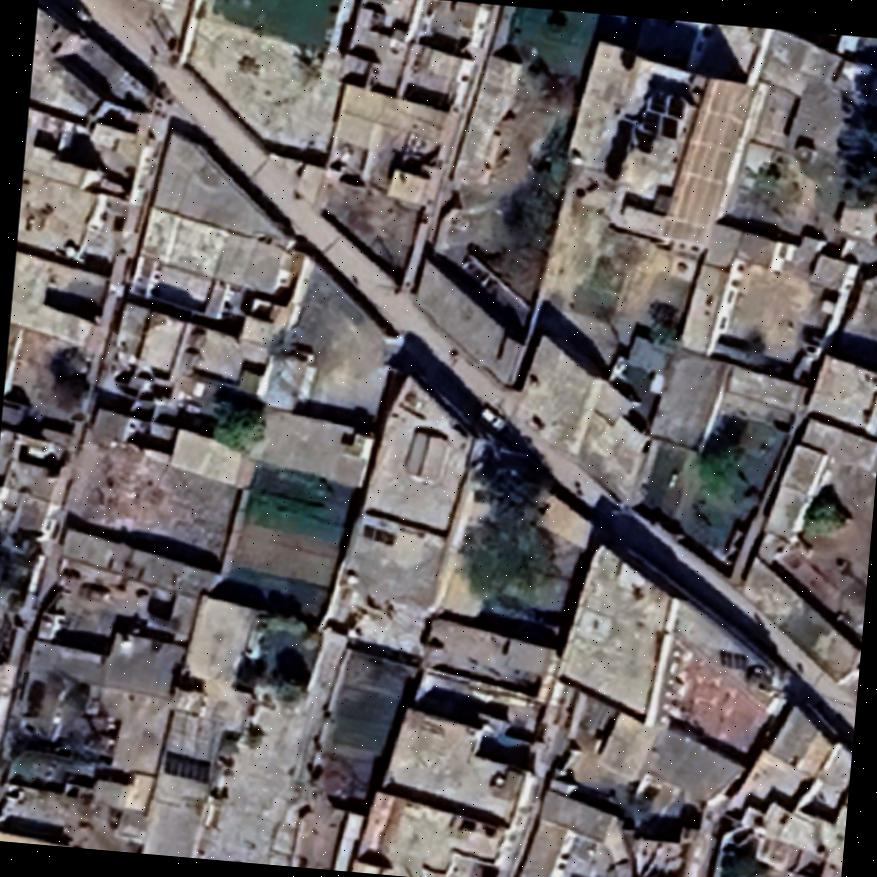Solarpanel: (627, 82, 690, 159), (155, 745, 218, 790)
